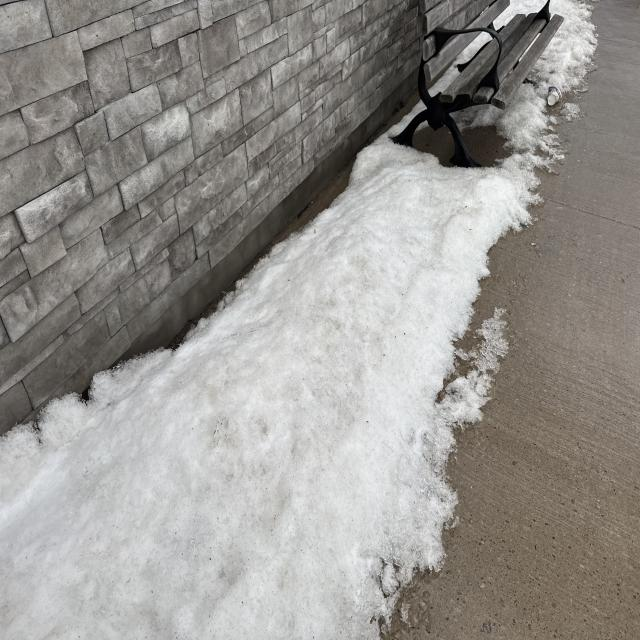Bench: (400, 1, 562, 160)
